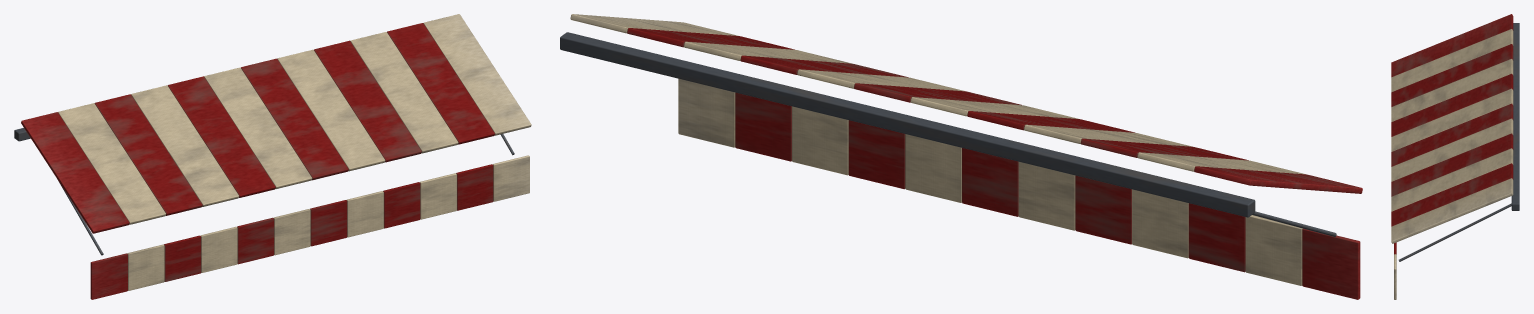
Rendered from sklep_markiza_a.glb.
The picture shows the model from 3 angles, left to right: view 1: azimuth 30°, elevation 25°; view 2: azimuth 150°, elevation 25°; view 3: azimuth 270°, elevation 25°; orthographic projection. The views are drawn at different scales.
Parts seen in each view (by area): view 1: Markiza; view 2: Markiza; view 3: Markiza.
Part boxes in pixels (x1,y1,x2,y2): Markiza: (14,14,531,299); Markiza: (560,14,1362,299); Markiza: (1391,14,1519,299).
Bounding box in the file's own units: 3.24 × 0.8932 × 0.9702.
1 material, 1 textured.
